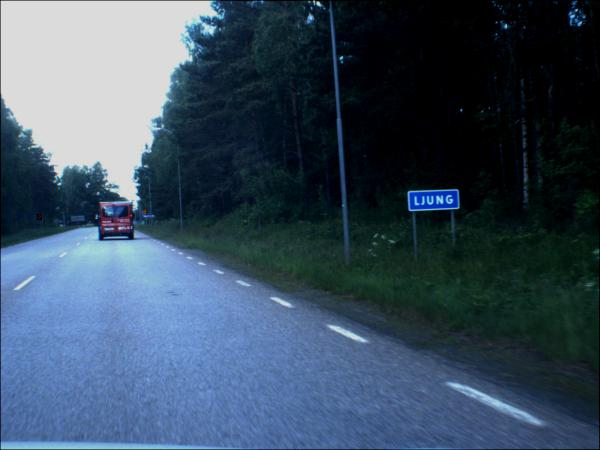50_SIGN: (38, 215, 44, 222), (145, 211, 151, 217)
